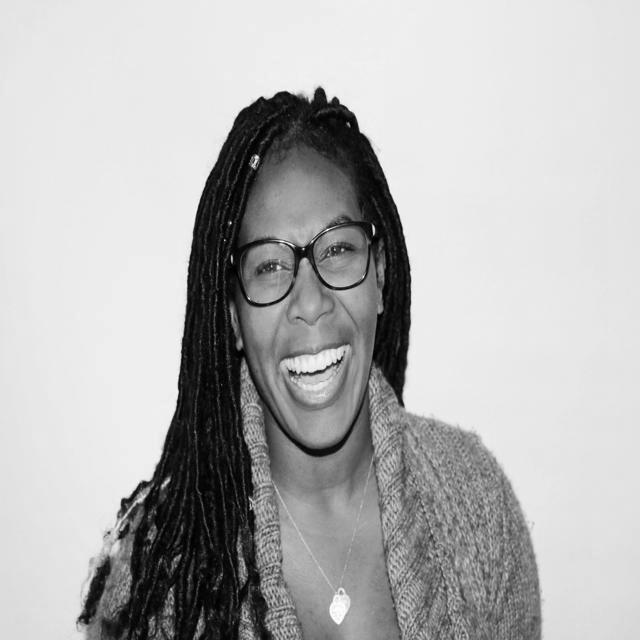Happiness: (236, 160, 376, 455)
